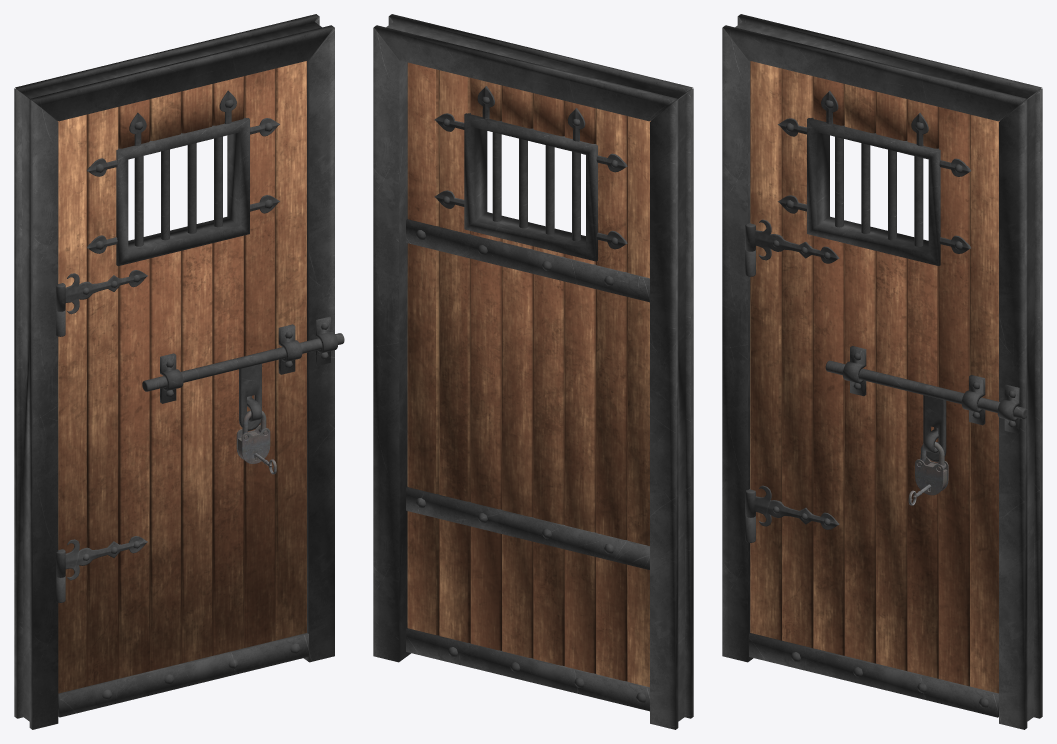
File: Door_02.obj
3 views of the same model, side by side, from view 1: azimuth 30°, elevation 25°; view 2: azimuth 150°, elevation 25°; view 3: azimuth 330°, elevation 25° (orthographic).
Parts seen in each view (by area): view 1: Door_Pannels_02, Door_Frame_02, Door_Window, Door_Metal_panels, Door_Lock_02, Door_hinges_02, Key_Padlock; view 2: Door_Pannels_02, Door_Frame_02, Door_Metal_panels, Door_Window; view 3: Door_Pannels_02, Door_Frame_02, Door_Window, Door_Metal_panels, Door_Lock_02, Door_hinges_02, Key_Padlock.
Part boxes in pixels (x1,y1,x2,y2): Door_Pannels_02: (57, 61, 306, 693); Door_Frame_02: (14, 14, 338, 729); Door_Window: (87, 90, 279, 266); Door_Metal_panels: (58, 633, 308, 717); Door_Lock_02: (142, 324, 344, 430); Door_hinges_02: (56, 270, 261, 580); Key_Padlock: (236, 424, 270, 464); Door_Pannels_02: (407, 62, 650, 687); Door_Frame_02: (373, 14, 693, 729); Door_Metal_panels: (406, 219, 649, 711); Door_Window: (434, 86, 627, 261); Door_Pannels_02: (750, 61, 999, 693); Door_Frame_02: (722, 14, 1042, 729); Door_Window: (778, 90, 971, 265); Door_Metal_panels: (749, 633, 998, 717); Door_Lock_02: (825, 346, 1027, 461); Door_hinges_02: (745, 219, 938, 529); Key_Padlock: (915, 457, 948, 495).
Bounding box in the file's own units: 97.49 × 191 × 25.43.
4 materials, 4 textured.
